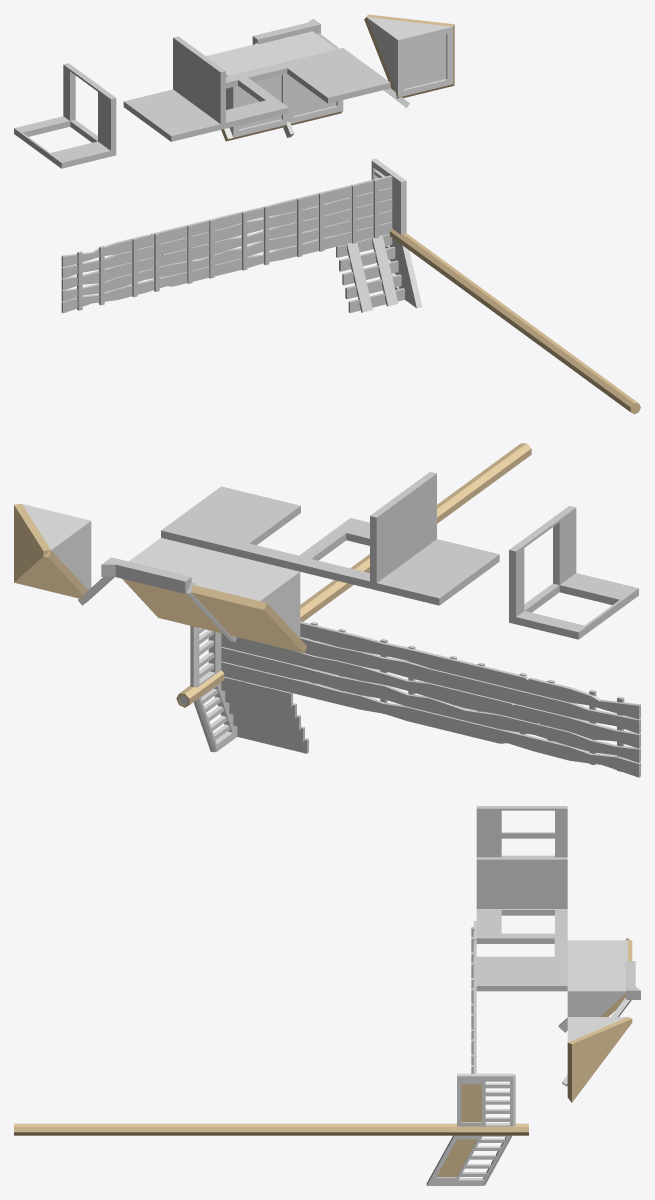
Rendered from Tropical Village Props.fbx.
3 renders of one model, top to bottom at view 1: azimuth 30°, elevation 25°; view 2: azimuth 150°, elevation 25°; view 3: azimuth 270°, elevation 25°, orthographic. The views are drawn at different scales.
Parts seen in each view (by area): view 1: Wall 2, Roof 3, Window 2, Support, Steps 1, Roof 2, Wood Floor 2, Wood Floor 1, Wood Floor 4, Wood Floor 3, Wood Floor 5, Wood Floor 6 (+7 smaller); view 2: Wall 2, Roof 2, Window 2, Roof 3, Wood Floor 4, Wood Floor 5, Wood Floor 3, Wood Floor 6, Wood Floor 2, Wall 1, Roof 1, Steps 1 (+7 smaller); view 3: Support, Wall 2, Roof 3, Wall 1, Roof 1, Railing, Window 2, Railing Angle, Roof 2, Door 1, Window 1.
Boxes of the visible parts, x1,y1,x2,y2 form: Wall 2: (123, 36, 225, 141); Roof 3: (364, 14, 454, 98); Window 2: (14, 63, 116, 168); Support: (389, 228, 640, 414); Steps 1: (336, 234, 404, 312); Roof 2: (206, 44, 288, 141); Wood Floor 2: (281, 188, 337, 259); Wood Floor 1: (336, 175, 392, 246); Wood Floor 4: (172, 215, 227, 286); Wood Floor 3: (226, 202, 282, 272); Wood Floor 5: (117, 229, 172, 299); Wood Floor 6: (61, 242, 117, 313); Wall 2: (370, 472, 499, 605); Roof 2: (191, 555, 306, 653); Window 2: (509, 506, 638, 639); Roof 3: (14, 504, 91, 600); Wood Floor 4: (430, 653, 501, 743); Wood Floor 5: (499, 670, 570, 760); Wood Floor 3: (360, 636, 431, 726); Wood Floor 6: (569, 687, 640, 777); Wood Floor 2: (291, 621, 361, 709); Wall 1: (161, 486, 290, 554); Roof 1: (122, 538, 230, 633); Steps 1: (221, 677, 308, 753); Support: (14, 1123, 528, 1135); Wall 2: (476, 857, 567, 908); Roof 3: (567, 1017, 632, 1102); Wall 1: (476, 960, 567, 991); Roof 1: (567, 965, 625, 1016); Railing: (457, 1073, 515, 1126); Window 2: (476, 806, 567, 857); Railing Angle: (426, 1135, 512, 1185); Roof 2: (567, 938, 632, 965); Door 1: (476, 934, 567, 960); Window 1: (476, 909, 567, 934).
Bounding box in the file's own units: 1614 × 902 × 2072.
